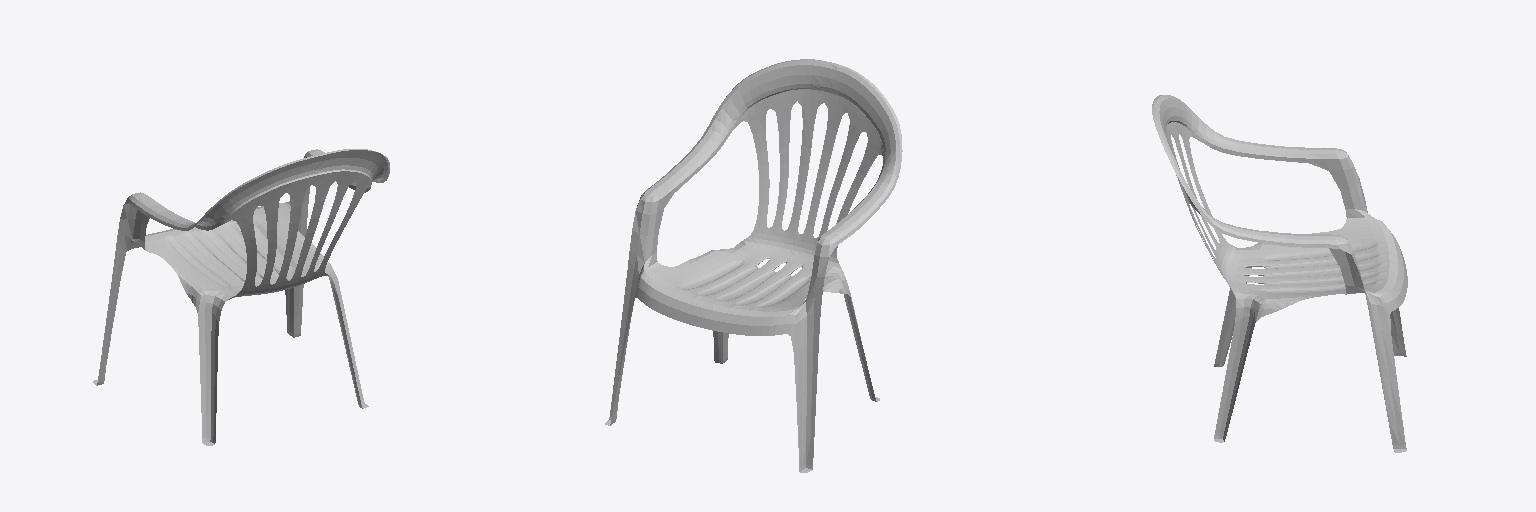
File: PowerChair.obj
The picture shows the model from 3 angles: view 1: azimuth 30°, elevation 25°; view 2: azimuth 150°, elevation 25°; view 3: azimuth 270°, elevation 25°; orthographic projection.
Visible parts, largest first — view 1: PowerChair, Pattern; view 2: PowerChair, Pattern; view 3: PowerChair, Pattern.
Boxes of the visible parts, <box> form: PowerChair: <box>93,149,389,445</box>; Pattern: <box>165,219,296,288</box>; PowerChair: <box>605,59,902,472</box>; Pattern: <box>678,257,810,307</box>; PowerChair: <box>1152,95,1407,452</box>; Pattern: <box>1243,241,1381,292</box>.
Bounding box in the file's own units: 17.33 × 23.82 × 18.8.